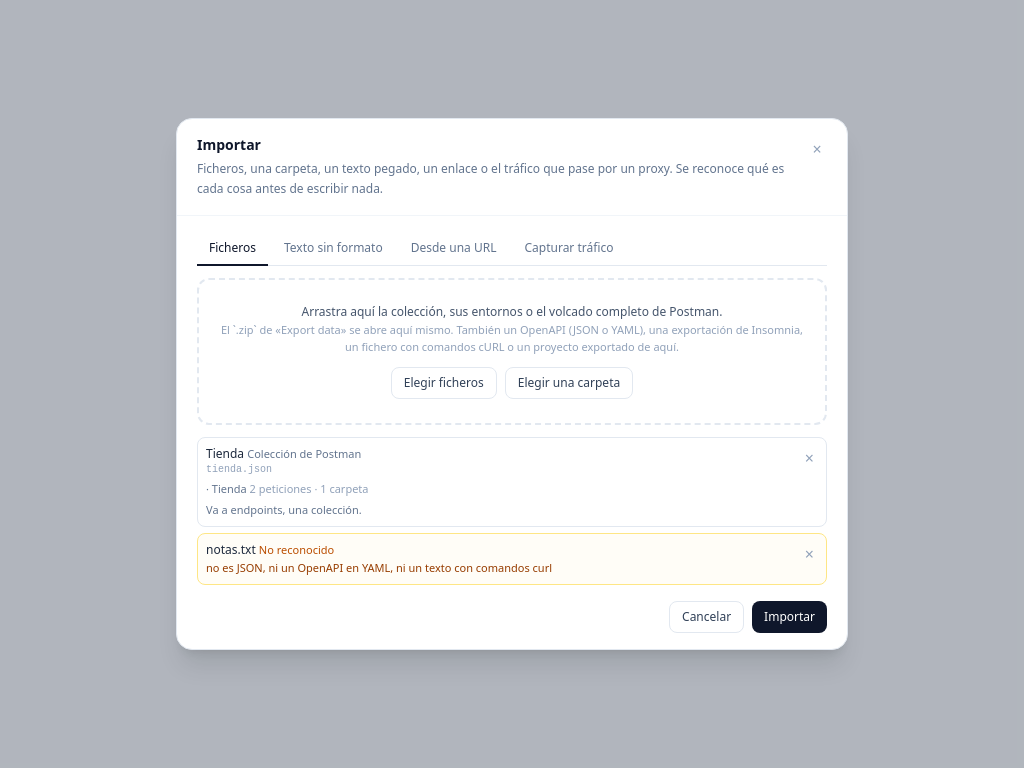
Test: lo soltado se reconoce aquí mismo › se puede quitar uno de los ficheros antes de importar
This screenshot has width=1024, height=768.
What coordinates should you click on to do the following:
click the button named "Quitar notas.txt"
I would click on:
 (809, 554)
Its box is [801,542,818,566].
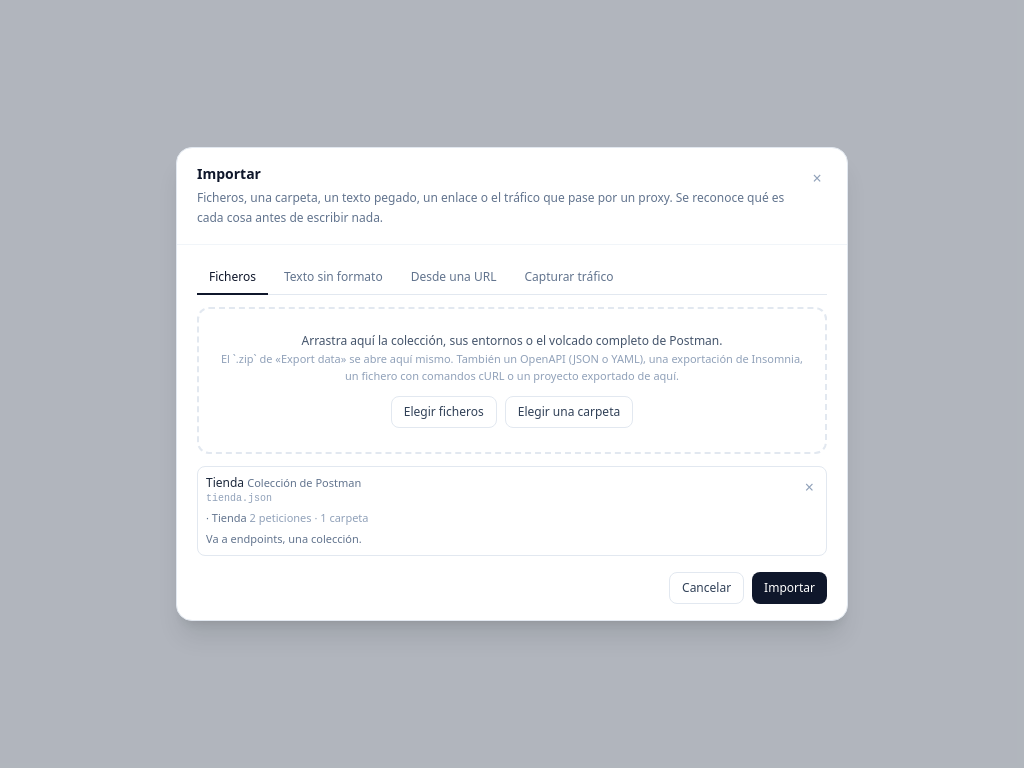
Expected: the text "No reconocido" is gone
